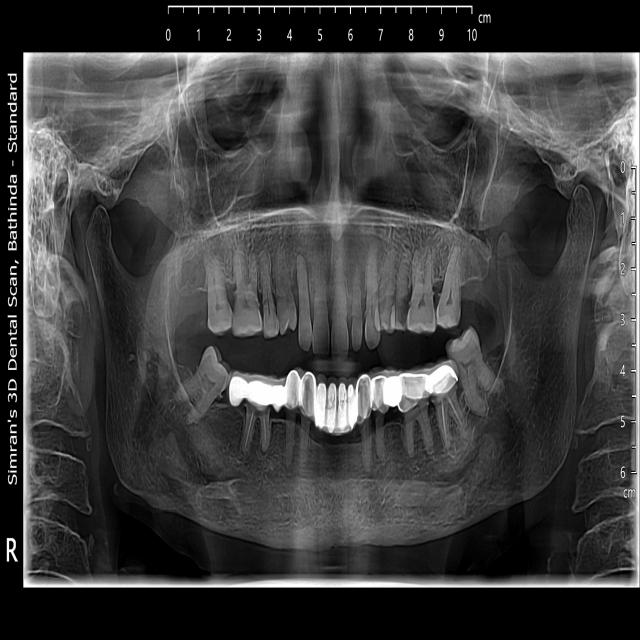Caries: (398, 295, 412, 325)
Crown: (233, 357, 460, 436)
Missing teeth: (309, 433, 363, 473)
Root Canal Treatment: (426, 361, 468, 455), (241, 376, 276, 464)
